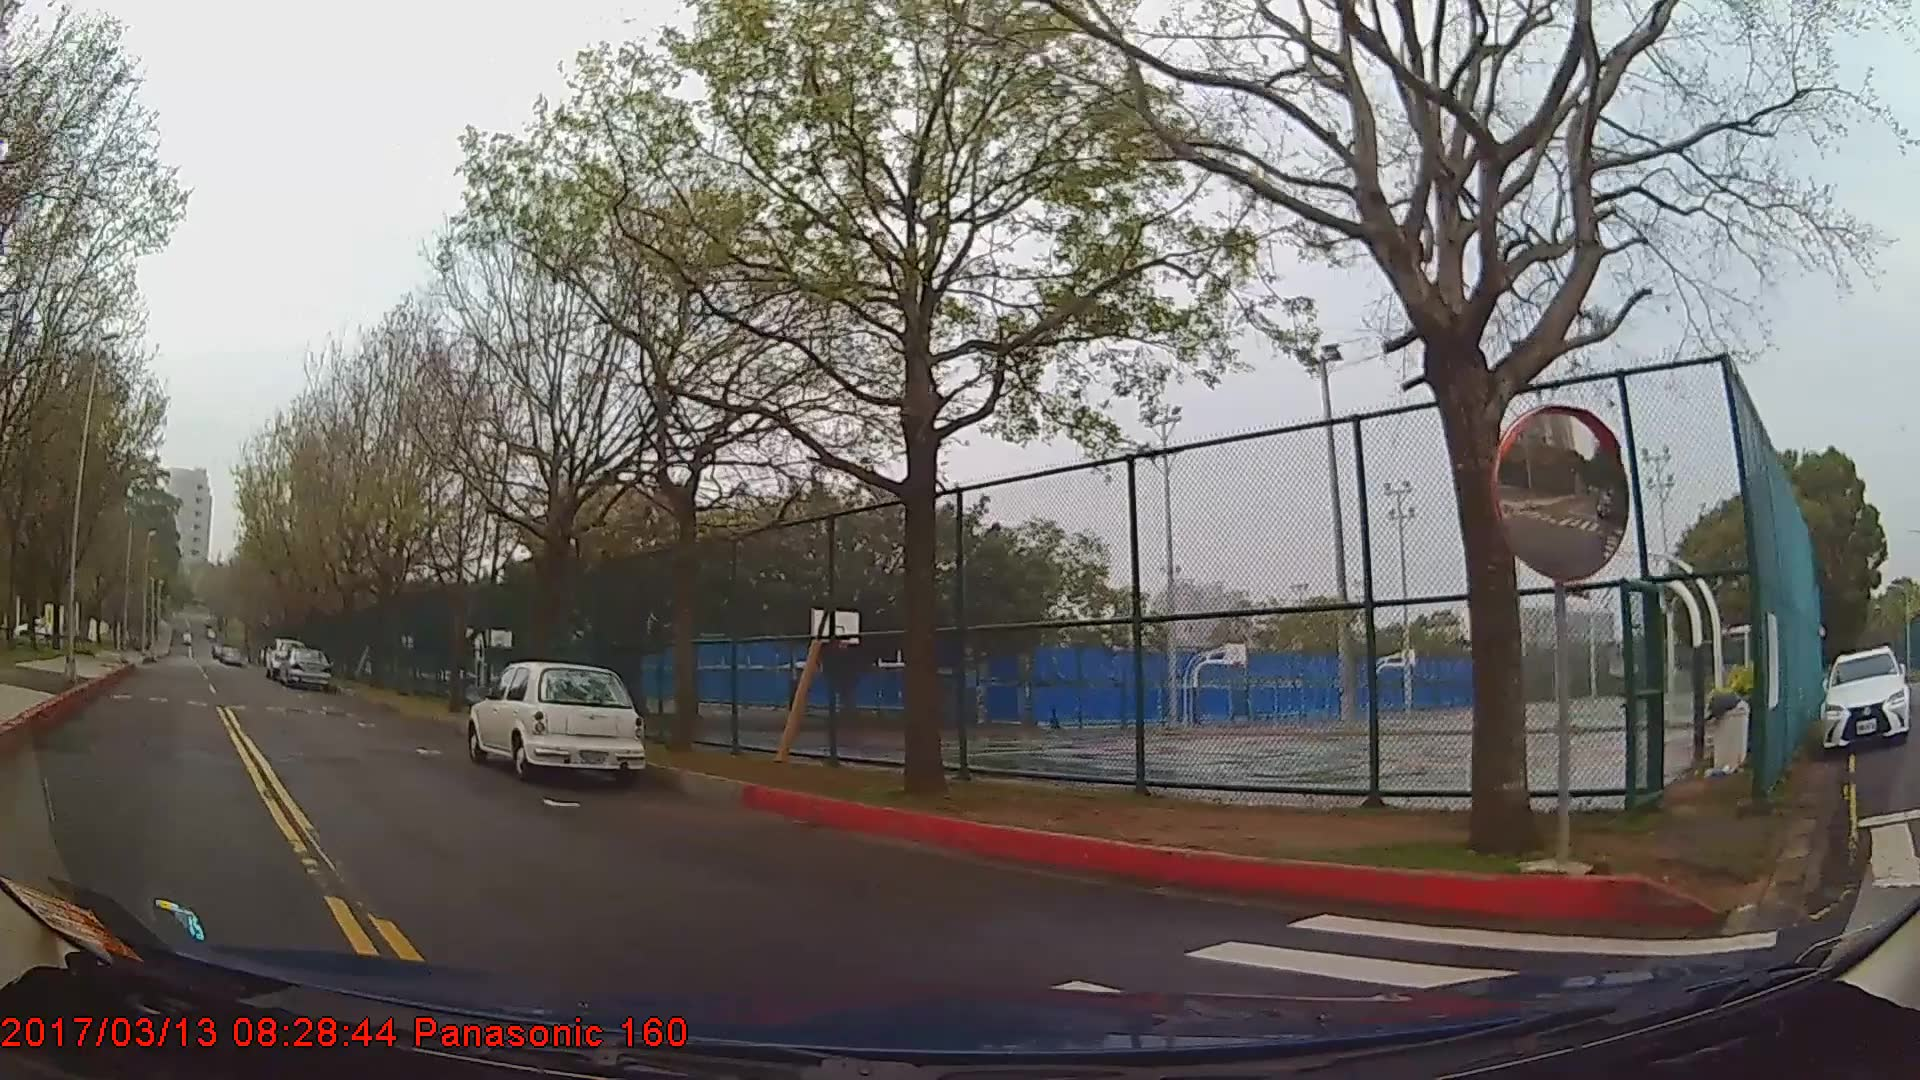vehicle: (468, 661, 645, 779), (1820, 645, 1909, 752), (280, 646, 331, 688)
